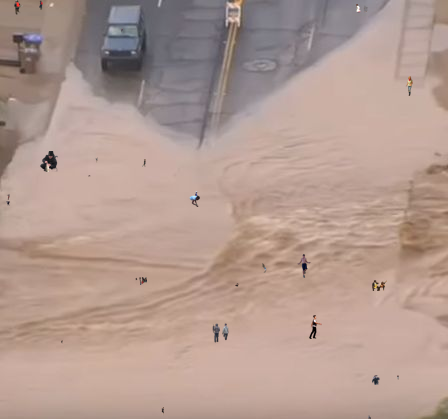Human: (387, 76, 413, 96), (14, 0, 43, 15), (40, 151, 58, 172), (212, 323, 229, 343), (297, 254, 311, 278), (309, 315, 322, 339), (1, 189, 19, 200), (189, 191, 200, 207), (261, 263, 278, 273), (372, 280, 387, 291), (356, 4, 368, 13), (135, 277, 147, 285), (372, 375, 380, 385), (142, 159, 146, 167), (161, 407, 164, 416), (5, 201, 10, 206), (234, 283, 239, 287), (95, 157, 98, 163), (368, 415, 371, 419), (88, 175, 91, 179), (121, 28, 123, 33), (397, 375, 399, 380), (61, 340, 63, 345)
